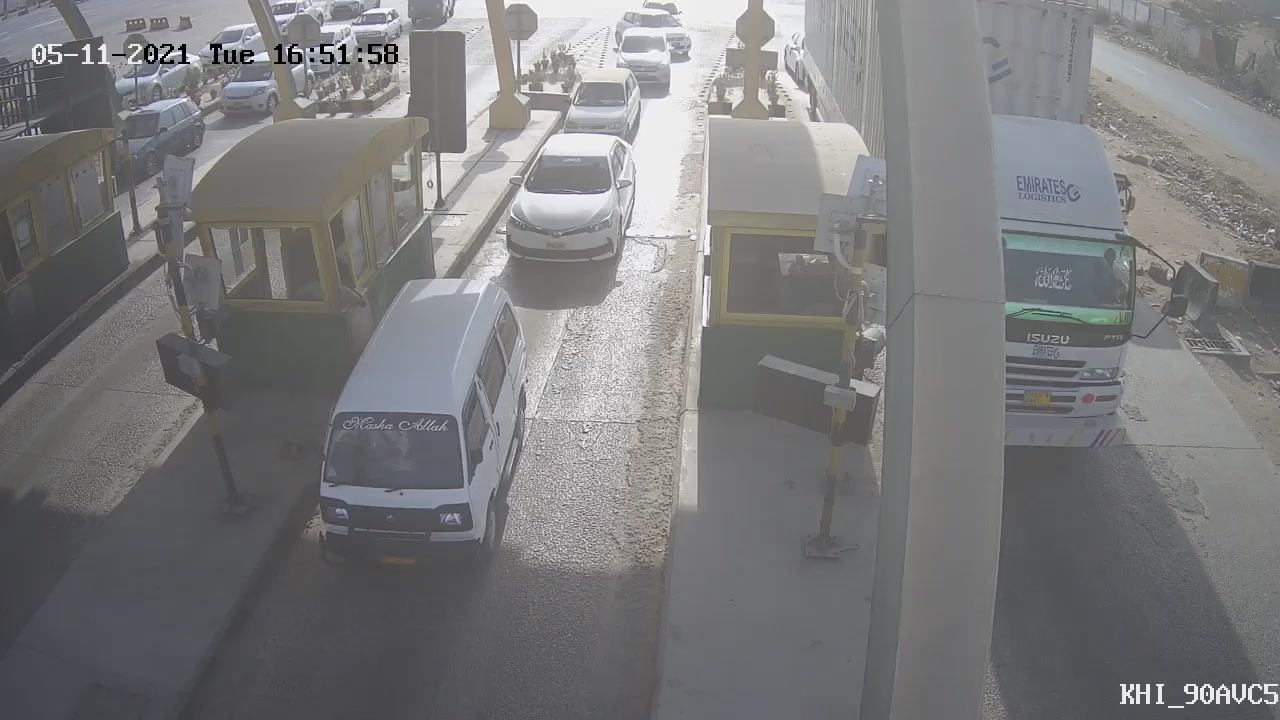F1: (290, 256, 548, 599), (489, 120, 655, 290), (546, 56, 656, 153)
